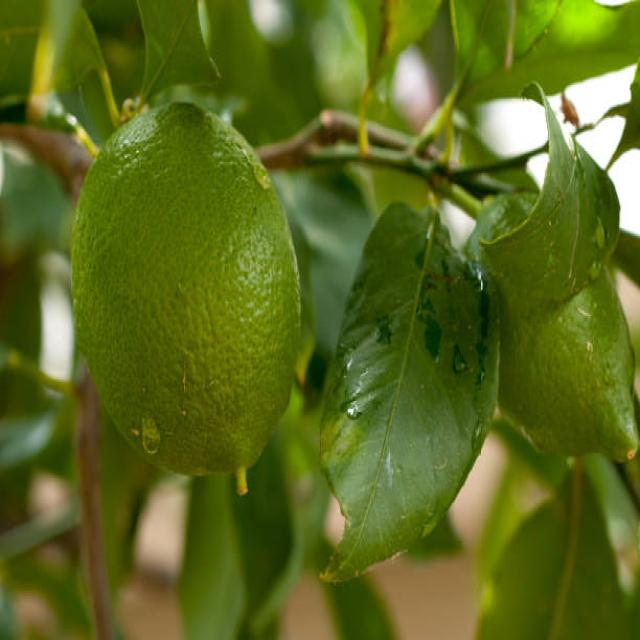Unripe: (69, 100, 300, 473)
